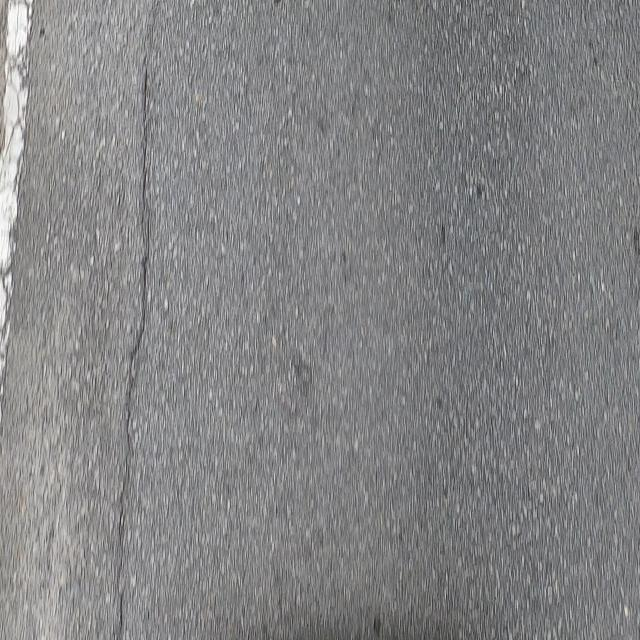Retak-Memanjang: (114, 67, 155, 637)
